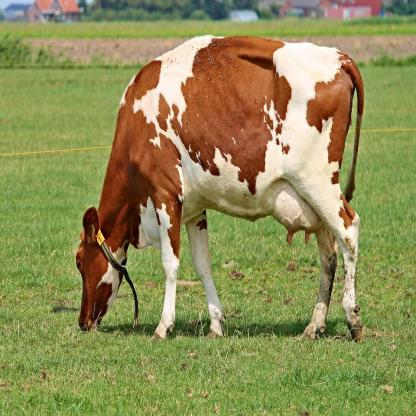cow: (77, 38, 364, 342)
